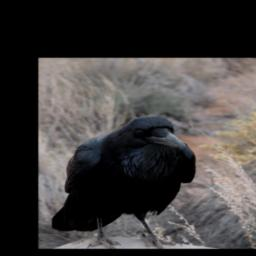Crow: (49, 115, 199, 248)
